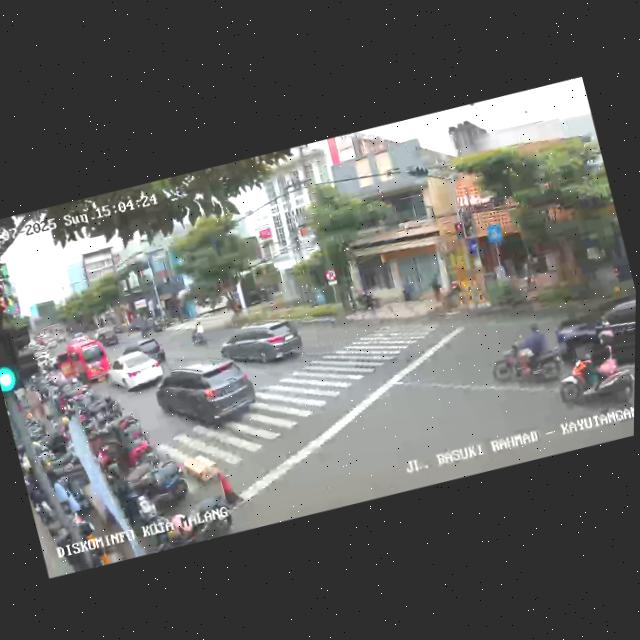car: (149, 346, 264, 443), (564, 292, 636, 383), (216, 310, 307, 378), (102, 342, 169, 398), (52, 336, 113, 393), (118, 334, 168, 374)
motorcycle: (550, 338, 635, 429), (490, 319, 570, 396), (187, 319, 210, 349)
